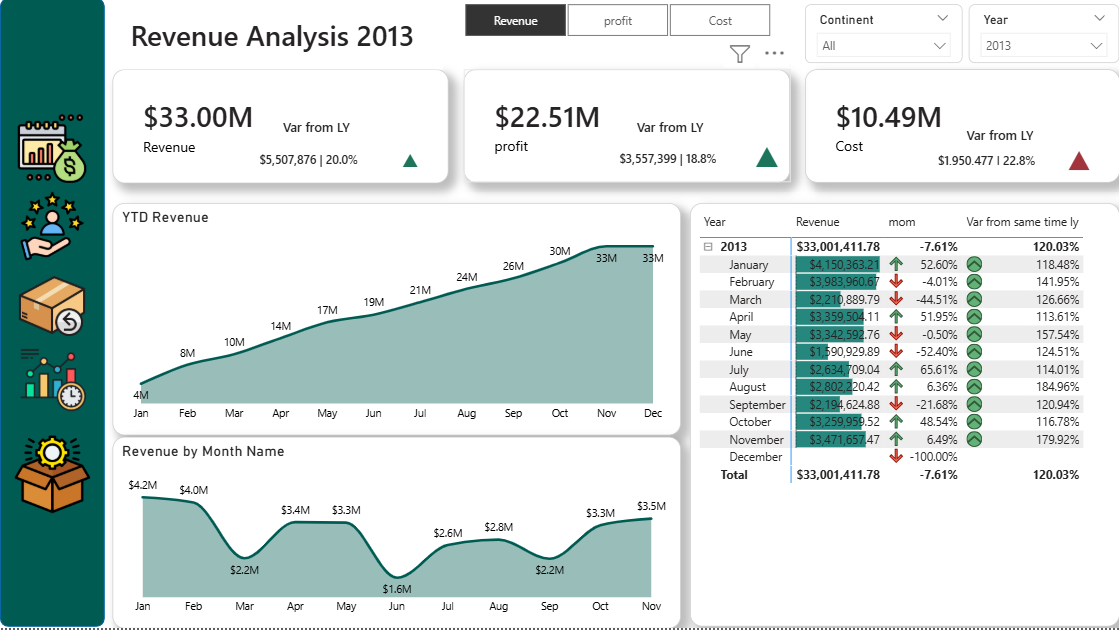

The dashboard page shown, as its layout file describes it:
{"tool":"powerbi","page":{"name":"Time Analysis","canvas":[1280,720],"ordinal":3},"visuals":[{"type":"shape","box":[0,0,119.6,718.8],"z":0},{"type":"areaChart","fields":{"Category":["Date Table.Month Name"],"Y":["#Measures.Ytd"]},"box":[128.4,234.4,649.7,265.5],"z":1000},{"type":"areaChart","fields":{"Y":["#Measures.Revenue"],"Category":["Date Table.Month Name"]},"box":[128.4,500.9,649.7,218.8],"z":2000},{"type":"pivotTable","fields":{"Values":["#Measures.Revenue","#Measures.mom","#Measures.Var from same time ly"],"Rows":["Date Table.Date.Variation.Date Hierarchy.Year","Date Table.Date.Variation.Date Hierarchy.Month"]},"box":[788.8,234.4,491.2,484.4],"z":3000},{"type":"slicer","fields":{"Values":["Parameter.Parameter"]},"box":[505.8,0,398.8,50.6],"z":4000},{"type":"cardVisual","fields":{"Data":["#Measures.Revenue"]},"box":[128.4,81.7,384.2,130.3],"z":5000},{"type":"cardVisual","fields":{"Data":["#Measures.Cost"]},"box":[920.1,81.7,359.9,129.4],"z":6000},{"type":"cardVisual","fields":{"Data":["#Measures.profit"]},"box":[530.1,81.7,372.5,129.4],"z":7000},{"type":"cardVisual","fields":{"Data":["#Measures.main Title dynamic"]},"box":[119.6,0,386.1,81.7],"z":8000},{"type":"slicer","fields":{"Values":["Date Table.Year"]},"box":[1107.8,6.8,172.2,67.1],"z":9000},{"type":"cardVisual","fields":{"Data":["#Measures.Show over"]},"box":[294.7,121.6,158.5,50.6],"z":10000},{"type":"cardVisual","fields":{"Data":["#Measures.Arrow(Revenue)"]},"box":[426,146.9,86.6,73.9],"z":11000},{"type":"cardVisual","title":"Var from LY","fields":{"Data":["#Measures.Showover Profit"]},"box":[678.9,151.7,197.4,62.2],"z":12000},{"type":"cardVisual","fields":{"Data":["#Measures.Show over Revenue"]},"box":[267.5,155.6,202.3,55.4],"z":13000},{"type":"cardVisual","fields":{"Data":["#Measures.Show over"]},"box":[698.4,121.6,158.5,50.6],"z":14000},{"type":"cardVisual","fields":{"Data":["#Measures.Arrow(profit)"]},"box":[832.6,146.9,87.5,64.2],"z":15000},{"type":"cardVisual","fields":{"Data":["#Measures.Show over"]},"box":[1075.7,130.3,158.5,50.6],"z":16000},{"type":"cardVisual","fields":{"Data":["#Measures.Arrow(cost)"]},"box":[1187.6,152.7,92.4,61.3],"z":17000},{"type":"cardVisual","fields":{"Data":["#Measures.Show over Cost"]},"box":[1042.7,159.5,191.6,48.6],"z":18000},{"type":"slicer","fields":{"Values":["Customers.Continent"]},"box":[920.1,6.8,179.9,67.1],"z":19000},{"type":"image","box":[4.5,500,110.9,89.1],"z":20000},{"type":"image","box":[4.5,132.7,110.9,78.2],"z":21000},{"type":"image","box":[4.5,221.8,110.9,78.2],"z":22000},{"type":"image","box":[4.5,312.7,110.9,78.2],"z":23000},{"type":"image","box":[0,397.3,120,79.1],"z":24000}]}

Visuals, with their boxes in screenshot pixels (x1, y1, x2, y2), scaled from the page's 1280x720 canvas onto the 1119x631 screenshot:
shape: 0:0:105:630
areaChart - Date Table.Month Name x #Measures.Ytd: 112:205:680:438
areaChart - #Measures.Revenue x Date Table.Month Name: 112:439:680:630
pivotTable - #Measures.Revenue x #Measures.mom: 690:205:1118:630
slicer - Parameter.Parameter: 442:0:791:44
cardVisual - #Measures.Revenue: 112:72:448:186
cardVisual - #Measures.Cost: 804:72:1118:185
cardVisual - #Measures.profit: 463:72:789:185
cardVisual - #Measures.main Title dynamic: 105:0:442:72
slicer - Date Table.Year: 968:6:1118:65
cardVisual - #Measures.Show over: 258:107:396:151
cardVisual - #Measures.Arrow(Revenue): 372:129:448:194
"Var from LY" cardVisual: 594:133:766:187
cardVisual - #Measures.Show over Revenue: 234:136:411:185
cardVisual - #Measures.Show over: 611:107:749:151
cardVisual - #Measures.Arrow(profit): 728:129:804:185
cardVisual - #Measures.Show over: 940:114:1079:159
cardVisual - #Measures.Arrow(cost): 1038:134:1118:188
cardVisual - #Measures.Show over Cost: 912:140:1079:182
slicer - Customers.Continent: 804:6:962:65
image: 4:438:101:516
image: 4:116:101:185
image: 4:194:101:263
image: 4:274:101:343
image: 0:348:105:418
